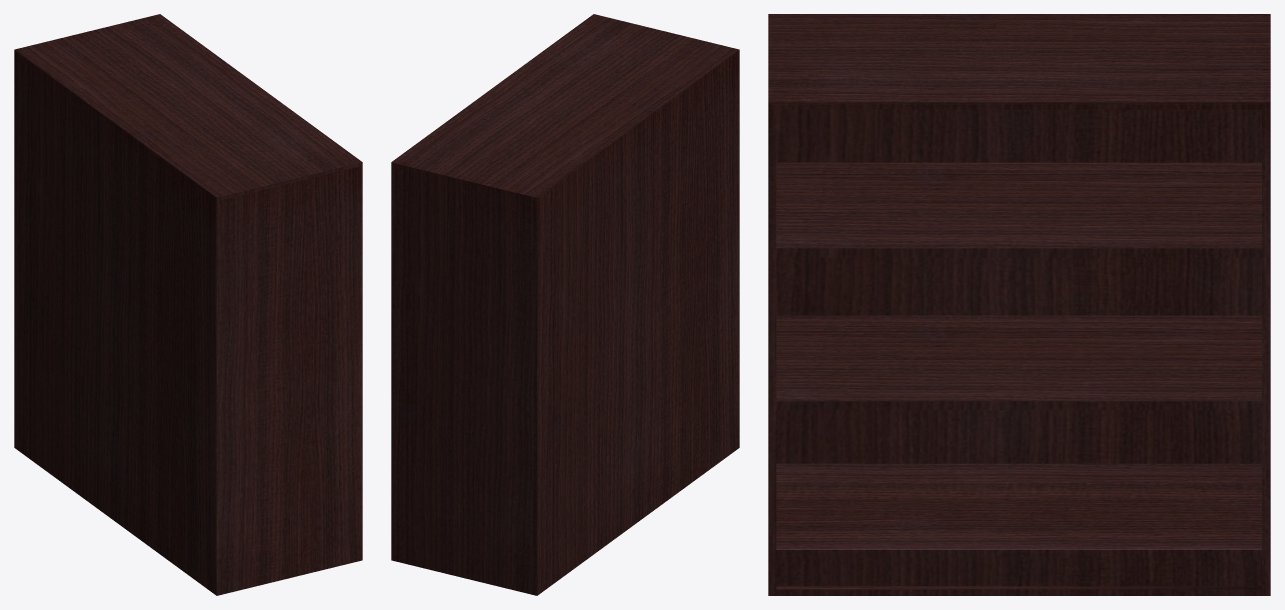
The model's file is small_bookcase.obj.
The picture shows the model from 3 angles, left to right: view 1: azimuth 30°, elevation 25°; view 2: azimuth 150°, elevation 25°; view 3: azimuth 270°, elevation 25°; orthographic projection. The views are drawn at different scales.
Visible parts, largest first — view 1: bookcase; view 2: bookcase; view 3: bookcase.
Boxes of the visible parts, x1,y1,x2,y2 form: bookcase: [14, 14, 362, 595]; bookcase: [391, 14, 739, 595]; bookcase: [768, 14, 1270, 595].
Size of the model in its own units: 4.16 by 10.84 by 10.
Materials: 1 (1 with a texture image).
